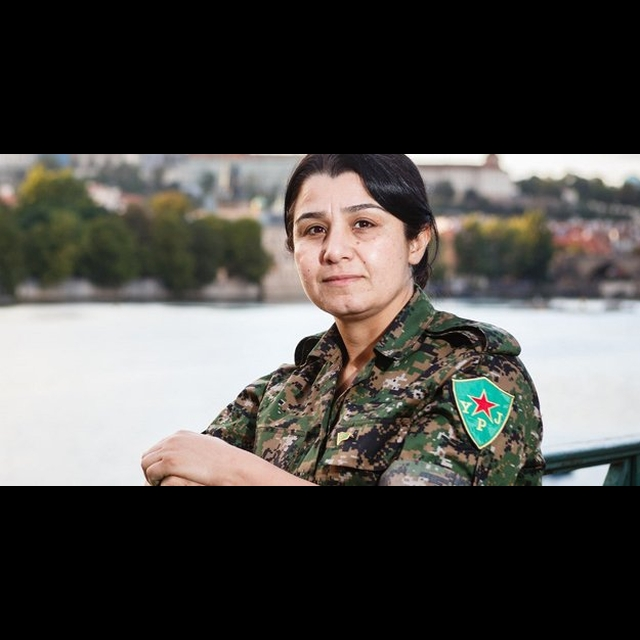YPJ: (449, 377, 517, 453)
